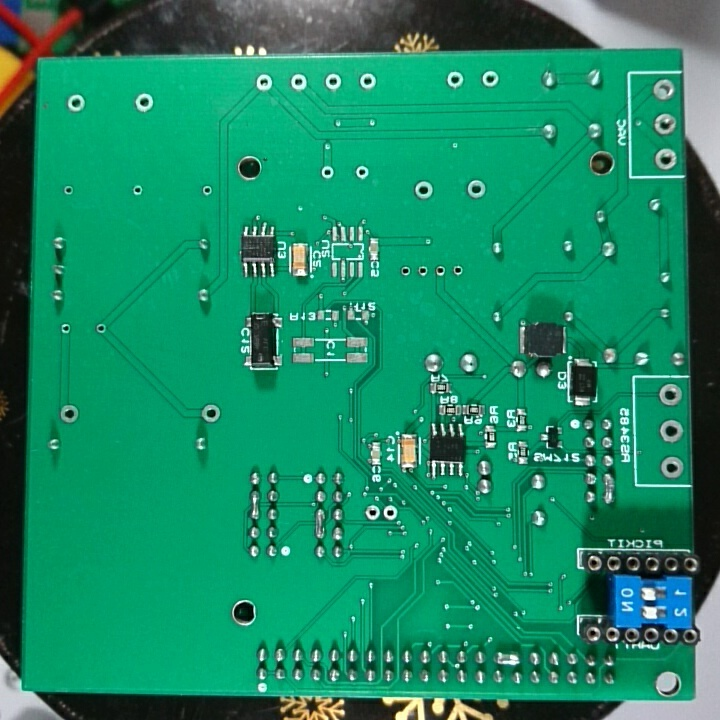F: (652, 110, 680, 139), (658, 416, 685, 446), (355, 68, 381, 99), (653, 144, 679, 174), (659, 452, 685, 481), (657, 380, 684, 407), (252, 70, 279, 97), (132, 91, 158, 118), (651, 78, 676, 106), (287, 68, 311, 97), (197, 402, 224, 426), (321, 68, 344, 96), (57, 402, 83, 425), (412, 178, 436, 202), (64, 91, 87, 116), (465, 178, 487, 202), (481, 68, 502, 91), (445, 70, 466, 92), (92, 320, 112, 340), (363, 503, 382, 524), (353, 161, 371, 183), (320, 161, 338, 183), (382, 503, 400, 523), (200, 181, 216, 203), (129, 181, 145, 201), (60, 182, 78, 199), (59, 321, 74, 337), (415, 264, 430, 279), (432, 264, 447, 278), (451, 264, 465, 277), (399, 264, 413, 277)
P: (310, 505, 329, 544), (245, 488, 265, 520), (494, 648, 523, 669), (601, 469, 616, 508)
